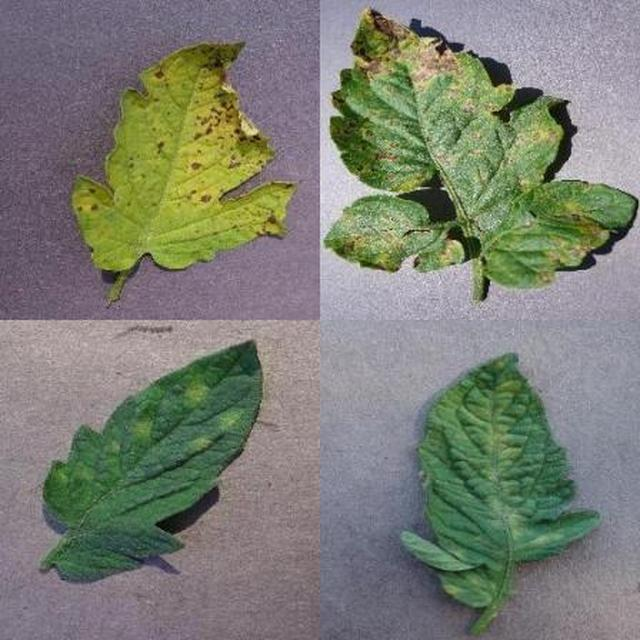Septoria Leaf: (220, 211, 640, 640)
